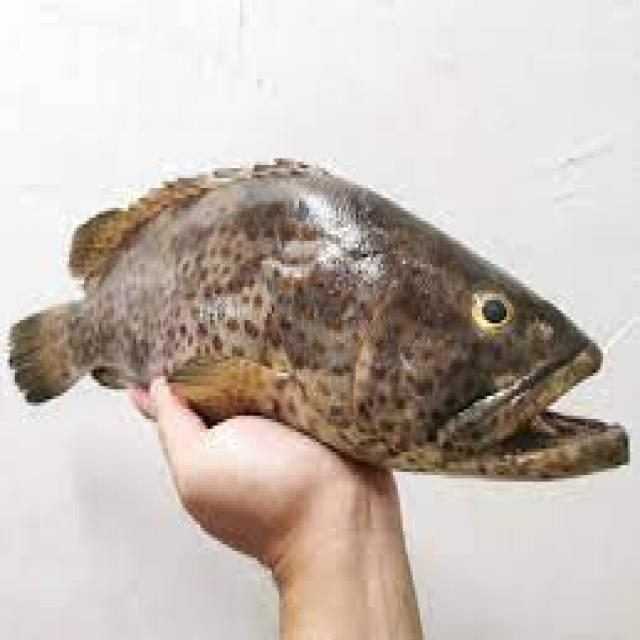grouper: (10, 143, 640, 490)
